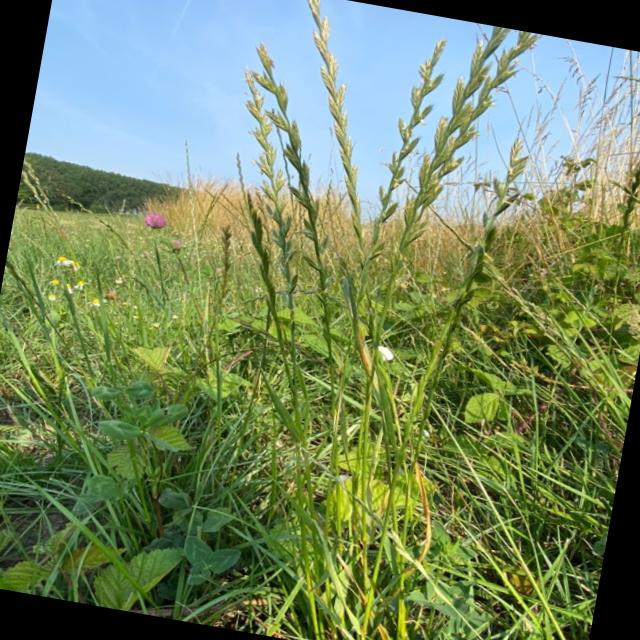Lolium: (153, 0, 640, 640), (386, 15, 542, 313), (226, 50, 366, 275), (366, 32, 452, 262)
